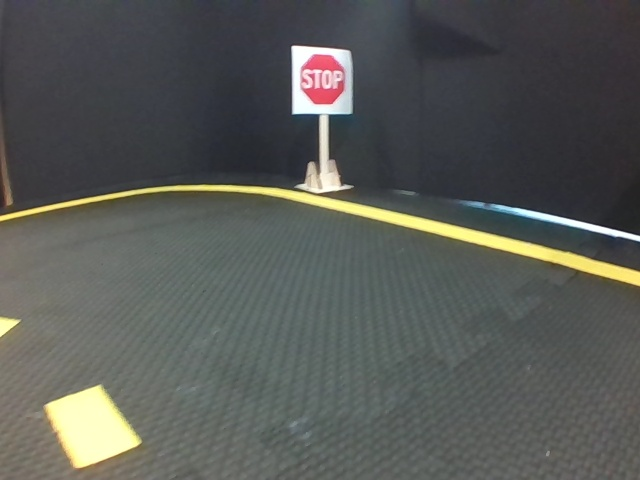stop: (293, 45, 351, 115)
